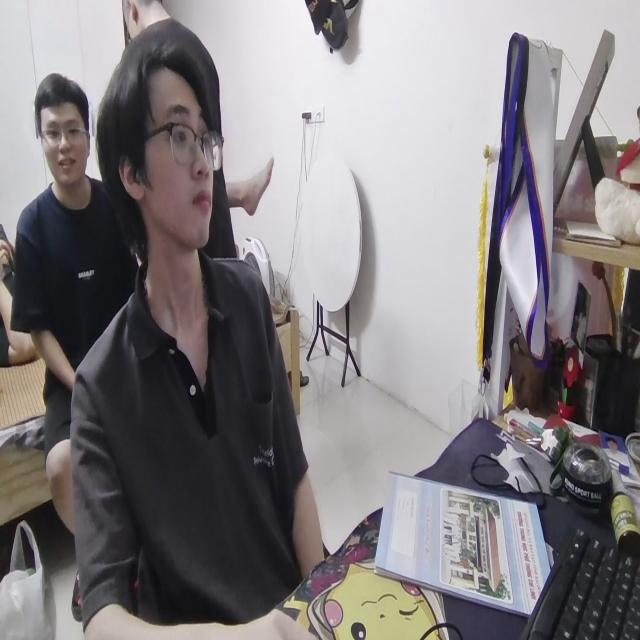book: (374, 456, 554, 628)
extra_person: (10, 79, 125, 549), (116, 0, 229, 185)
student: (66, 35, 334, 640)
